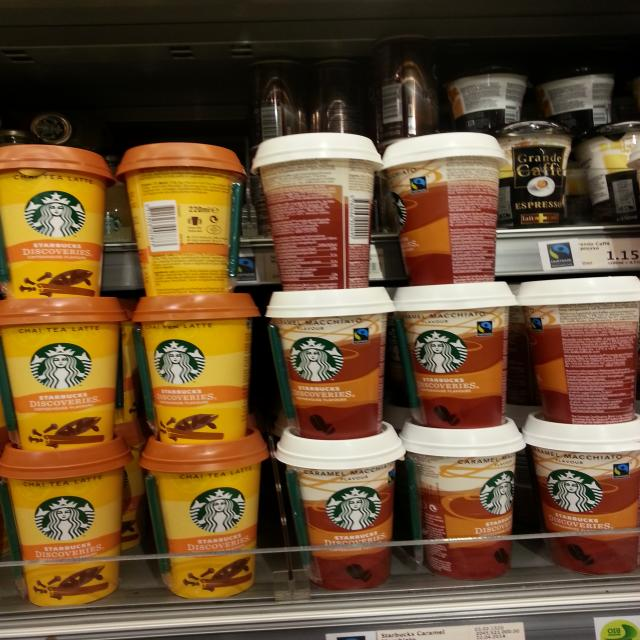Coffee: (0, 430, 135, 607), (138, 426, 269, 599), (275, 420, 406, 591), (399, 415, 527, 581), (251, 132, 383, 292), (116, 142, 247, 296), (0, 296, 130, 451), (265, 286, 395, 440), (131, 293, 262, 445), (520, 409, 640, 574), (383, 133, 507, 285), (517, 276, 640, 424), (395, 281, 517, 429), (0, 144, 115, 298), (496, 122, 571, 228), (580, 124, 640, 224), (446, 67, 534, 133), (533, 58, 620, 123)
